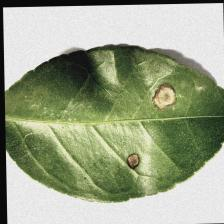canker: (108, 77, 196, 178)
